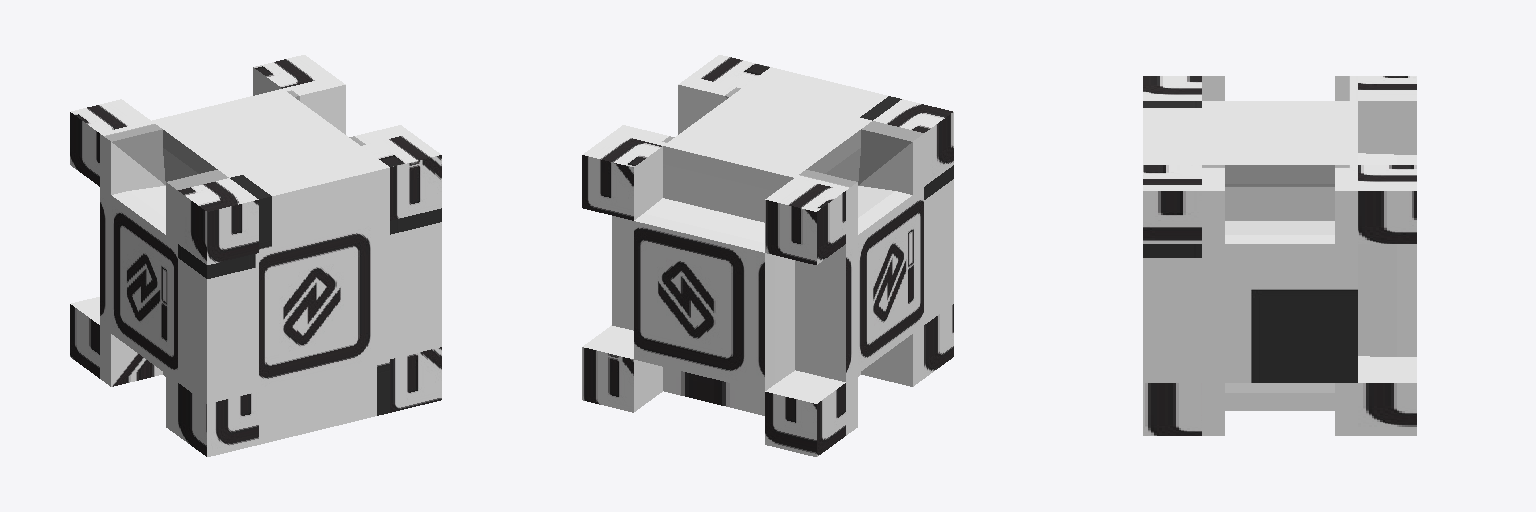
The picture shows the model from 3 angles: view 1: azimuth 30°, elevation 25°; view 2: azimuth 150°, elevation 25°; view 3: azimuth 270°, elevation 25°; orthographic projection.
Parts seen in each view (by area): view 1: coz_block_geo; view 2: coz_block_geo; view 3: coz_block_geo.
Boxes of the visible parts, <box> form: coz_block_geo: <box>70,55,441,456</box>; coz_block_geo: <box>582,55,953,456</box>; coz_block_geo: <box>1143,76,1416,435</box>.
Size of the model in its own units: 4.11 by 4.11 by 4.17.
Materials: 1 (1 with a texture image).